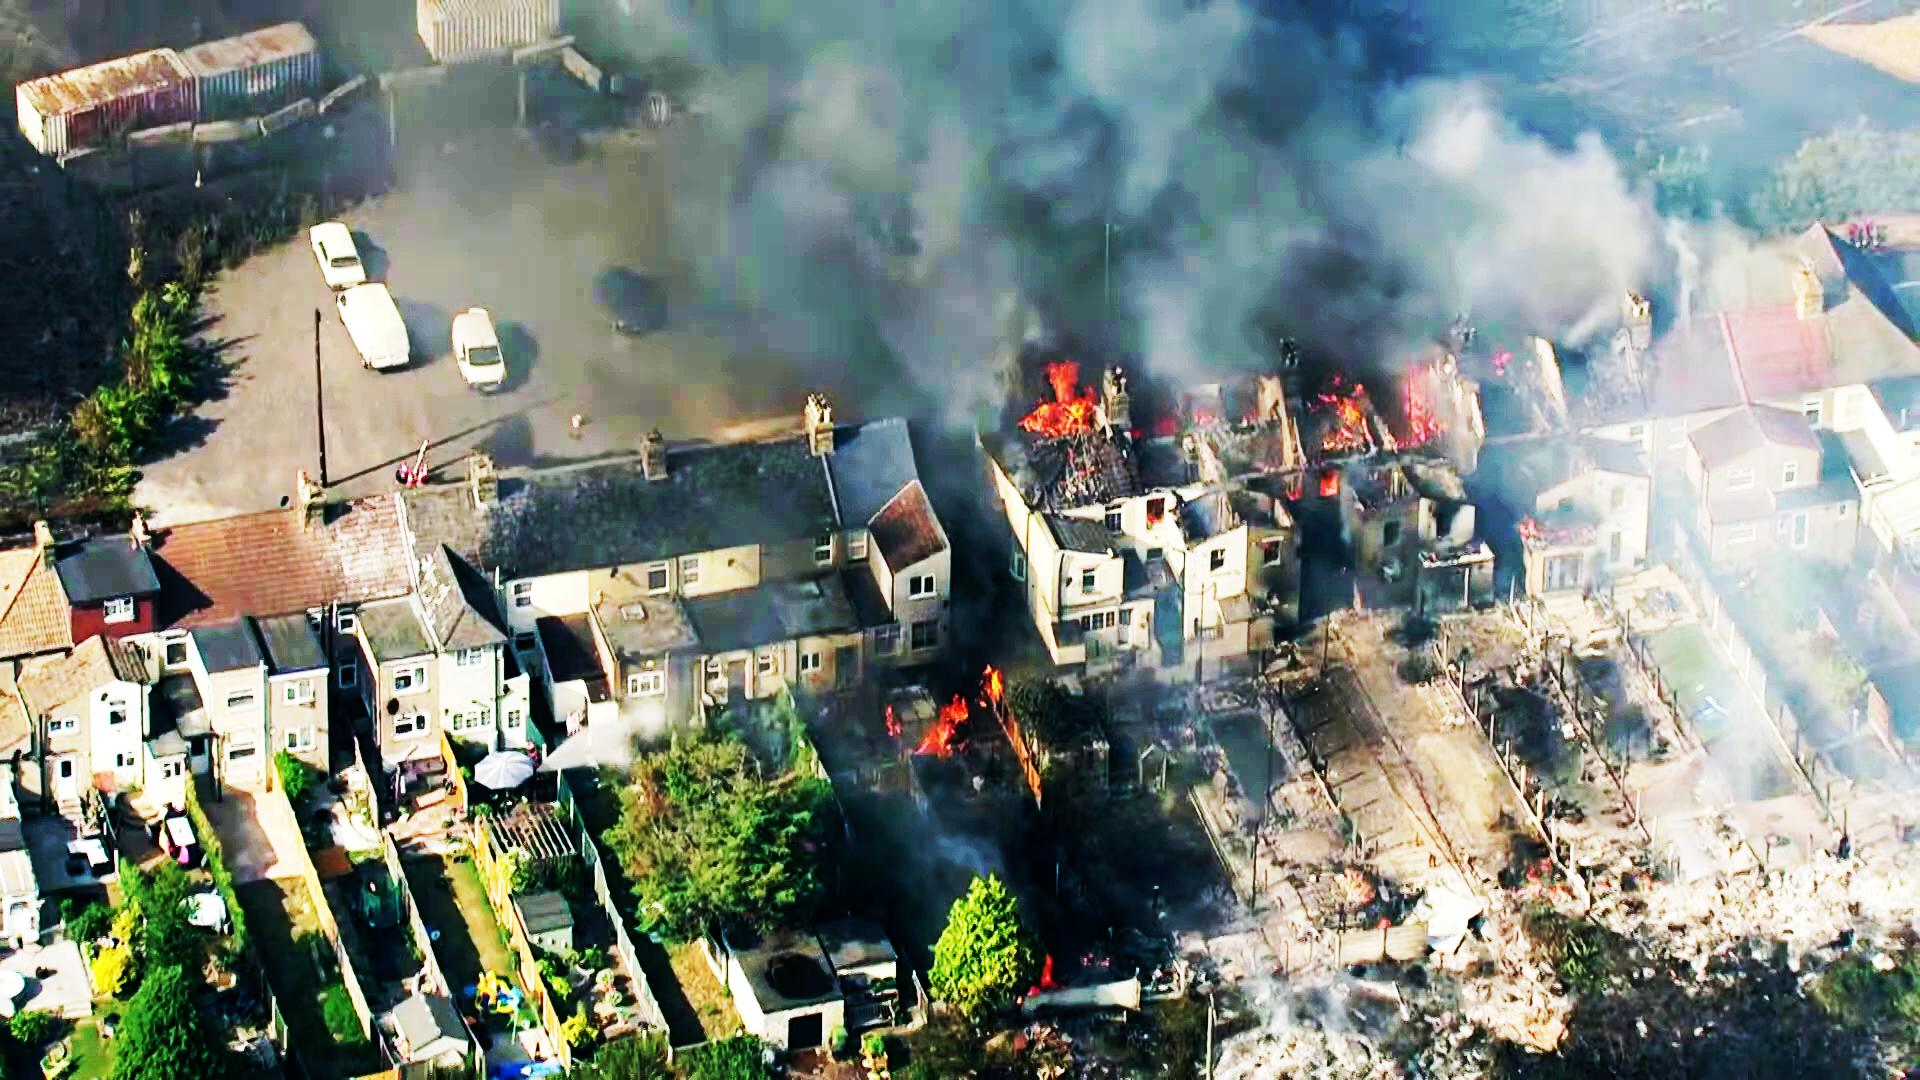fire: (903, 655, 1009, 761), (1385, 345, 1462, 464), (1030, 363, 1106, 440)
smoke: (646, 3, 1051, 294), (1309, 70, 1654, 336), (1023, 0, 1345, 223)
